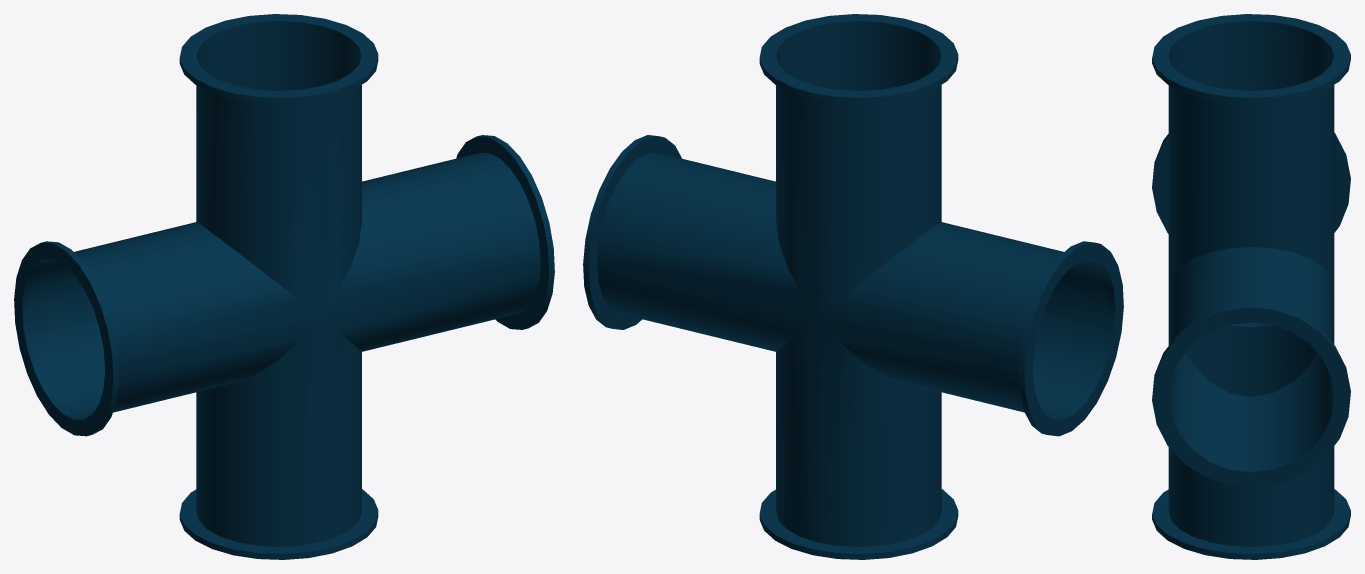
File: pipe_junction.dae
3 renders of one model, left to right at view 1: azimuth 30°, elevation 25°; view 2: azimuth 150°, elevation 25°; view 3: azimuth 270°, elevation 25°, orthographic.
Parts seen in each view (by area): view 1: coords_ME_ID3_MA_material_27, coords_ME_ID23_MA_material_27, coords_ME_ID35_MA_material_27, coords_ME_ID29_MA_material_27, coords_ME_ID53_MA_material_27, coords_ME_ID47_MA_material_27, coords_ME_ID41_MA_material_27; view 2: coords_ME_ID3_MA_material_27, coords_ME_ID23_MA_material_27, coords_ME_ID35_MA_material_27, coords_ME_ID29_MA_material_27, coords_ME_ID53_MA_material_27, coords_ME_ID47_MA_material_27, coords_ME_ID41_MA_material_27; view 3: coords_ME_ID3_MA_material_27, coords_ME_ID29_MA_material_27, coords_ME_ID35_MA_material_27, coords_ME_ID53_MA_material_27, coords_ME_ID23_MA_material_27, coords_ME_ID47_MA_material_27, coords_ME_ID11_MA_material_27.
Part boxes in pixels (x1=…): coords_ME_ID3_MA_material_27: x1=28, y1=27, x2=540, y2=546; coords_ME_ID23_MA_material_27: x1=14, y1=241, x2=118, y2=436; coords_ME_ID35_MA_material_27: x1=179, y1=14, x2=378, y2=103; coords_ME_ID29_MA_material_27: x1=456, y1=135, x2=554, y2=329; coords_ME_ID53_MA_material_27: x1=179, y1=489, x2=378, y2=559; coords_ME_ID47_MA_material_27: x1=196, y1=21, x2=361, y2=58; coords_ME_ID41_MA_material_27: x1=22, y1=259, x2=85, y2=419; coords_ME_ID3_MA_material_27: x1=597, y1=27, x2=1109, y2=546; coords_ME_ID23_MA_material_27: x1=1019, y1=241, x2=1123, y2=436; coords_ME_ID35_MA_material_27: x1=759, y1=14, x2=958, y2=103; coords_ME_ID29_MA_material_27: x1=583, y1=135, x2=681, y2=329; coords_ME_ID53_MA_material_27: x1=759, y1=489, x2=958, y2=559; coords_ME_ID47_MA_material_27: x1=776, y1=21, x2=941, y2=58; coords_ME_ID41_MA_material_27: x1=1052, y1=259, x2=1115, y2=419; coords_ME_ID3_MA_material_27: x1=1168, y1=27, x2=1334, y2=546; coords_ME_ID29_MA_material_27: x1=1152, y1=304, x2=1350, y2=487; coords_ME_ID35_MA_material_27: x1=1152, y1=14, x2=1350, y2=103; coords_ME_ID53_MA_material_27: x1=1152, y1=489, x2=1350, y2=559; coords_ME_ID23_MA_material_27: x1=1152, y1=133, x2=1350, y2=233; coords_ME_ID47_MA_material_27: x1=1169, y1=21, x2=1333, y2=58; coords_ME_ID11_MA_material_27: x1=1168, y1=397, x2=1334, y2=472.
Size of the model in its own units: 18.19 by 18.19 by 7.09.
